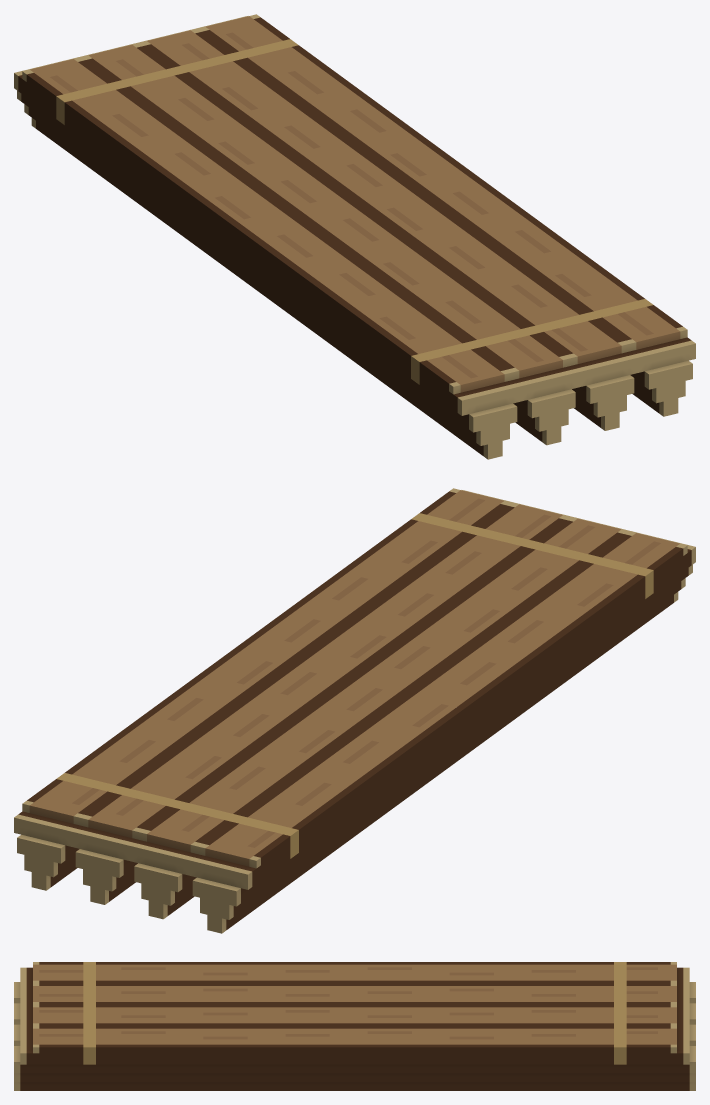
Rendered from log_bridge_5.glb.
3 renders of one model, top to bottom at view 1: azimuth 30°, elevation 25°; view 2: azimuth 150°, elevation 25°; view 3: azimuth 270°, elevation 25°, orthographic. The views are drawn at different scales.
Parts seen in each view (by area): view 1: VoxelVisual; view 2: VoxelVisual; view 3: VoxelVisual.
Part boxes in pixels (x1,y1,x2,y2): VoxelVisual: [14, 14, 695, 459]; VoxelVisual: [14, 488, 695, 933]; VoxelVisual: [14, 962, 695, 1090].
Size of what is drawn, in the model's own units: 2 by 0.5625 by 6.75.
